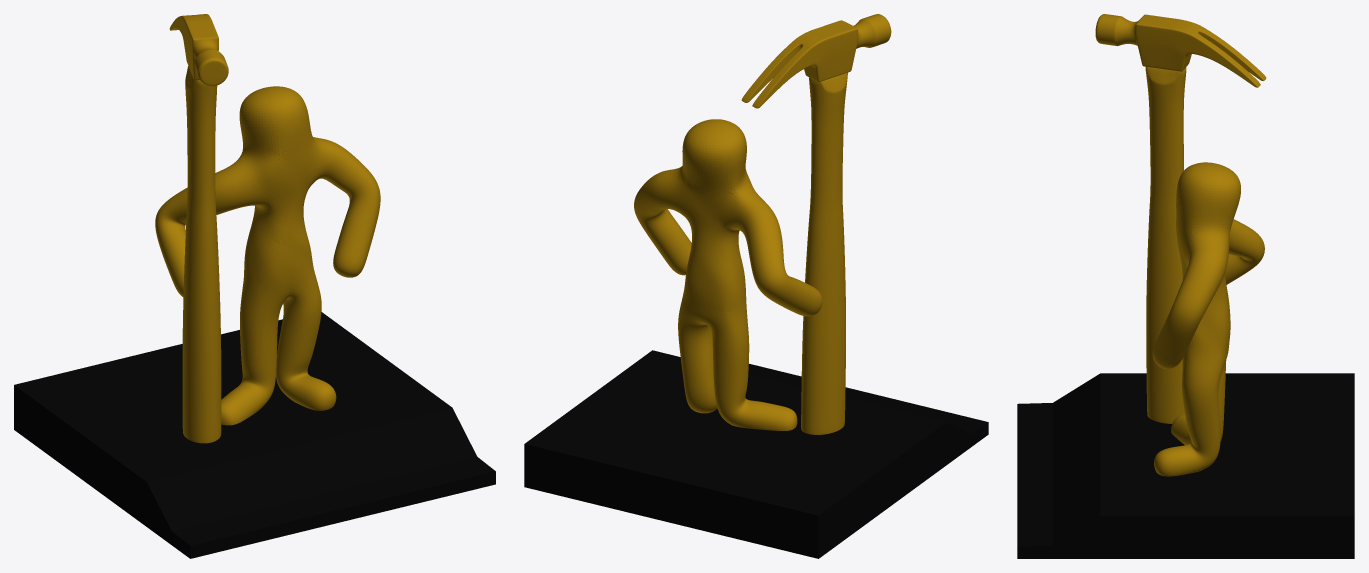
3 renders of one model, left to right at view 1: azimuth 30°, elevation 25°; view 2: azimuth 150°, elevation 25°; view 3: azimuth 270°, elevation 25°, orthographic. The views are drawn at different scales.
Parts seen in each view (by area): view 1: base.014, Plane.012, hammer; view 2: base.014, Plane.012, hammer; view 3: base.014, Plane.012, hammer.
Boxes of the visible parts, x1,y1,x2,y2 form: base.014: (14, 312, 495, 558); Plane.012: (155, 86, 380, 425); hammer: (169, 14, 228, 443); base.014: (524, 350, 988, 558); Plane.012: (634, 119, 822, 430); hammer: (741, 14, 891, 434); base.014: (1017, 373, 1354, 558); Plane.012: (1152, 162, 1264, 476); hammer: (1095, 14, 1266, 423).
Size of the model in its own units: 79.88 by 114 by 79.88.
